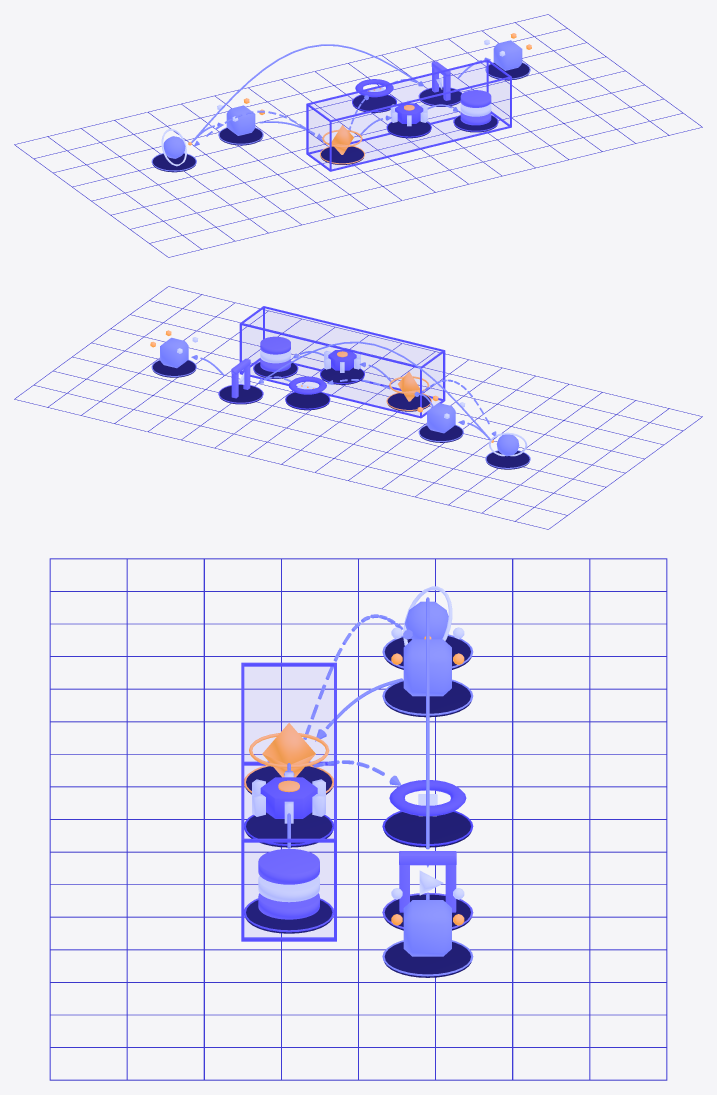
The model's file is keycloak.glb.
3 views of the same model, one above another, from view 1: azimuth 30°, elevation 25°; view 2: azimuth 150°, elevation 25°; view 3: azimuth 270°, elevation 25° (orthographic). The views are drawn at different scales.
Parts seen in each view (by area): view 1: floor, group_Keycloak, mesh_api_core, mesh_app_core, link_browser_gateway, mesh_kc_pad, mesh_browser_pad, mesh_login_pad, mesh_jwks_pad, mesh_app_pad, mesh_gateway_pad, mesh_db_disc2 (+4 smaller); view 2: floor, group_Keycloak, mesh_api_core, mesh_app_core, mesh_jwks_pad, link_browser_gateway, mesh_gateway_pad, mesh_browser_pad, mesh_kc_pad, mesh_login_pad, mesh_api_pad, mesh_app_pad (+4 smaller); view 3: floor, group_Keycloak, mesh_api_core, mesh_app_core, mesh_jwks_pad, mesh_api_pad, mesh_db_disc2, mesh_login_pad, mesh_app_pad, mesh_jwks_ring, mesh_login_hex, mesh_db_pad (+9 smaller).
Part boxes in pixels (box(x1,y1,x2,y2)): floor: box(14, 14, 702, 257); group_Keycloak: box(306, 59, 511, 171); mesh_api_core: box(493, 40, 522, 70); mesh_app_core: box(226, 105, 255, 135); link_browser_gateway: box(191, 44, 423, 142); mesh_kc_pad: box(321, 146, 363, 164); mesh_browser_pad: box(152, 153, 195, 172); mesh_login_pad: box(387, 121, 430, 138); mesh_jwks_pad: box(353, 95, 395, 112); mesh_app_pad: box(219, 128, 262, 145); mesh_gateway_pad: box(419, 87, 461, 106); mesh_db_disc2: box(460, 90, 491, 107); floor: box(14, 286, 702, 529); group_Keycloak: box(239, 306, 445, 418); mesh_api_core: box(160, 337, 188, 368); mesh_app_core: box(427, 403, 455, 433); mesh_jwks_pad: box(286, 392, 329, 410); link_browser_gateway: box(258, 341, 490, 439); mesh_gateway_pad: box(219, 385, 262, 404); mesh_browser_pad: box(486, 451, 529, 469); mesh_kc_pad: box(387, 393, 430, 411); mesh_login_pad: box(321, 367, 363, 384); mesh_api_pad: box(152, 360, 195, 377); mesh_app_pad: box(419, 425, 462, 442); floor: box(49, 558, 667, 1080); group_Keycloak: box(241, 662, 336, 941); mesh_api_core: box(403, 900, 451, 956); mesh_app_core: box(403, 639, 451, 696); mesh_jwks_pad: box(384, 812, 471, 847); mesh_api_pad: box(384, 942, 471, 977); mesh_db_disc2: box(258, 849, 319, 884); mesh_login_pad: box(245, 812, 332, 847); mesh_app_pad: box(384, 681, 471, 717); mesh_jwks_ring: box(389, 780, 466, 816); mesh_login_hex: box(260, 777, 317, 818); mesh_db_pad: box(245, 900, 332, 933).
Bounding box in the file's own units: 32.03 × 4.88 × 16.03.
